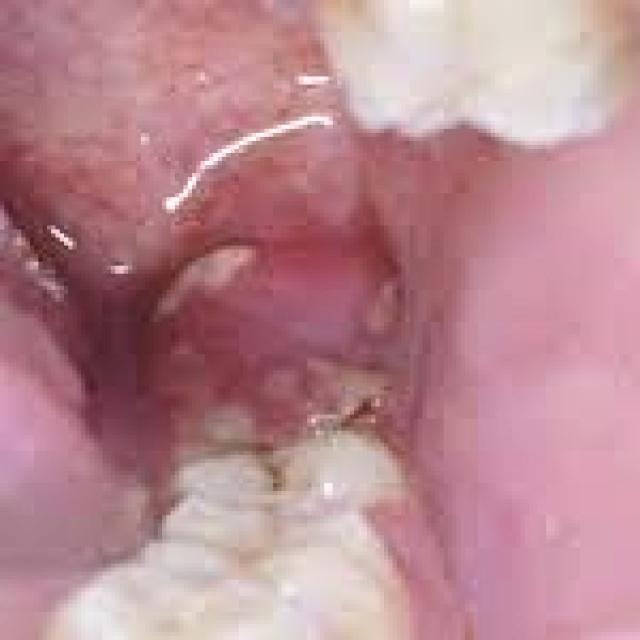abscess: (162, 268, 392, 394)
